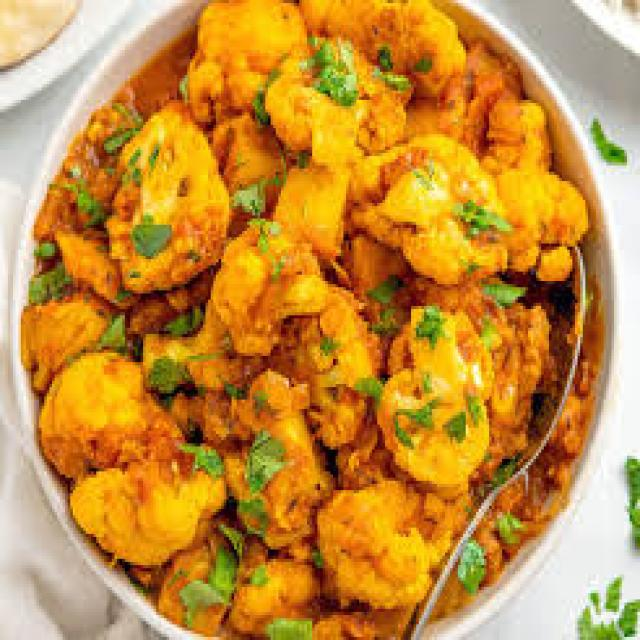Aloo Gobi: (121, 85, 524, 480)
